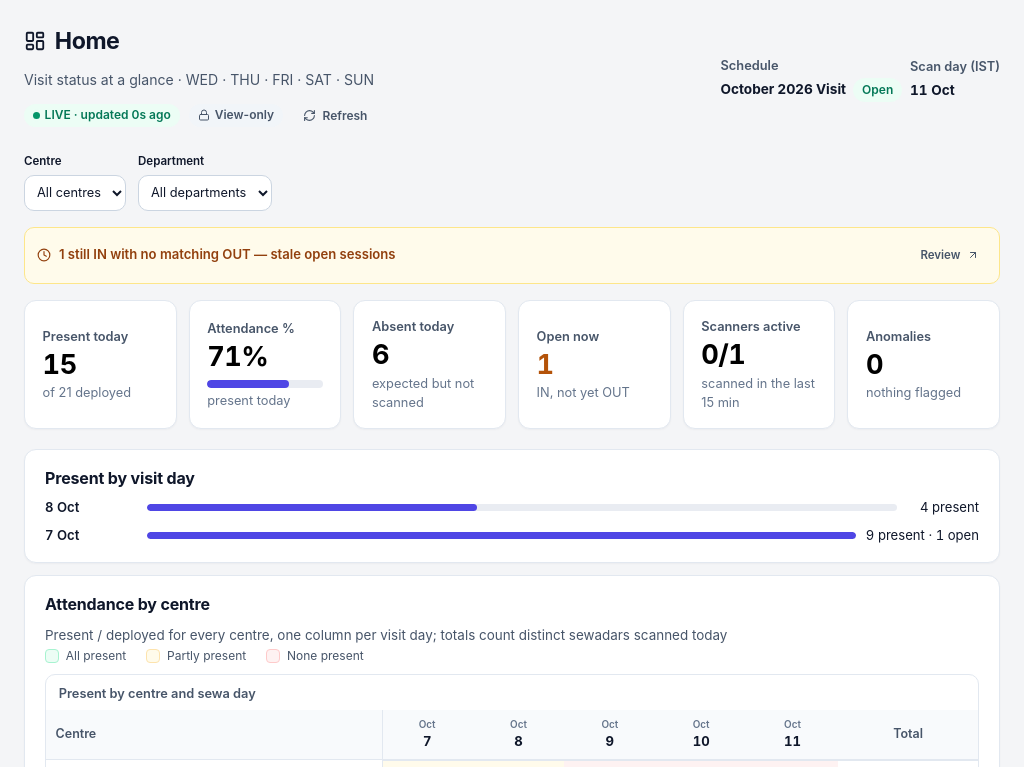
Scenario: DashboardPage — centre + department filters › filters by centre AND department combined
Select "DELHI" in the dropdown labelled "Centre". click: [75, 193]
box: x1=24 y1=175 x2=126 y2=211
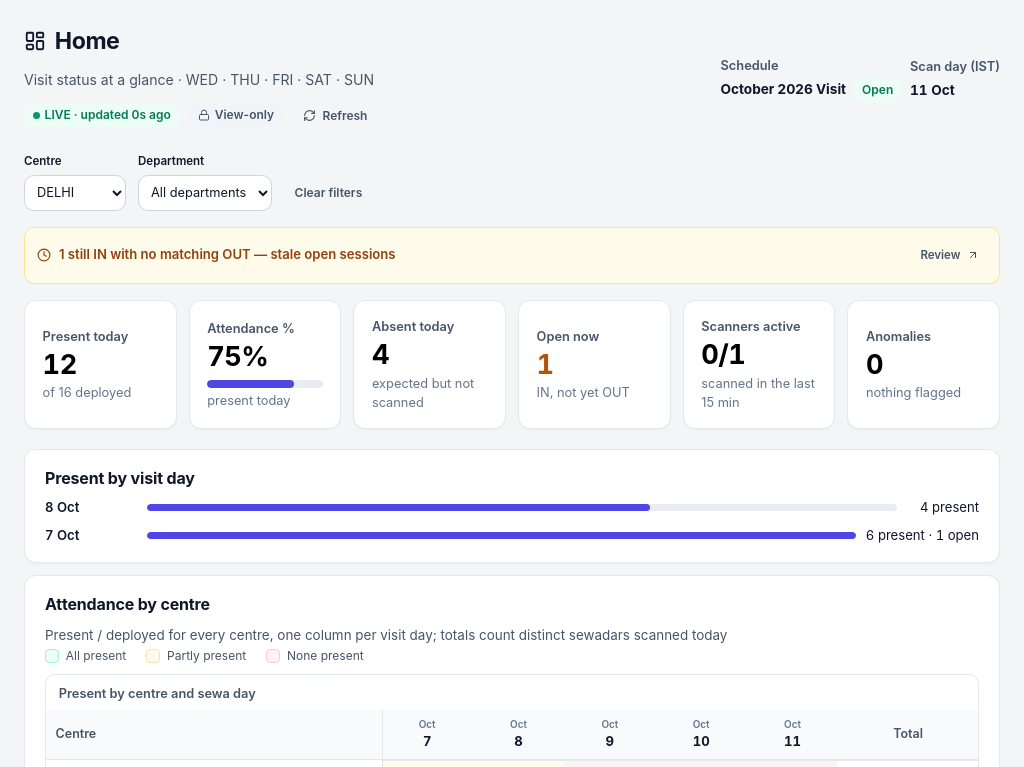
Expected: the button "Present today 12 of 16 deployed" is shown, x1=24 y1=300 x2=177 y2=429
Select "MEDICAL" in the dropdown labelled "Department". click: [205, 193]
box: x1=138 y1=175 x2=272 y2=211
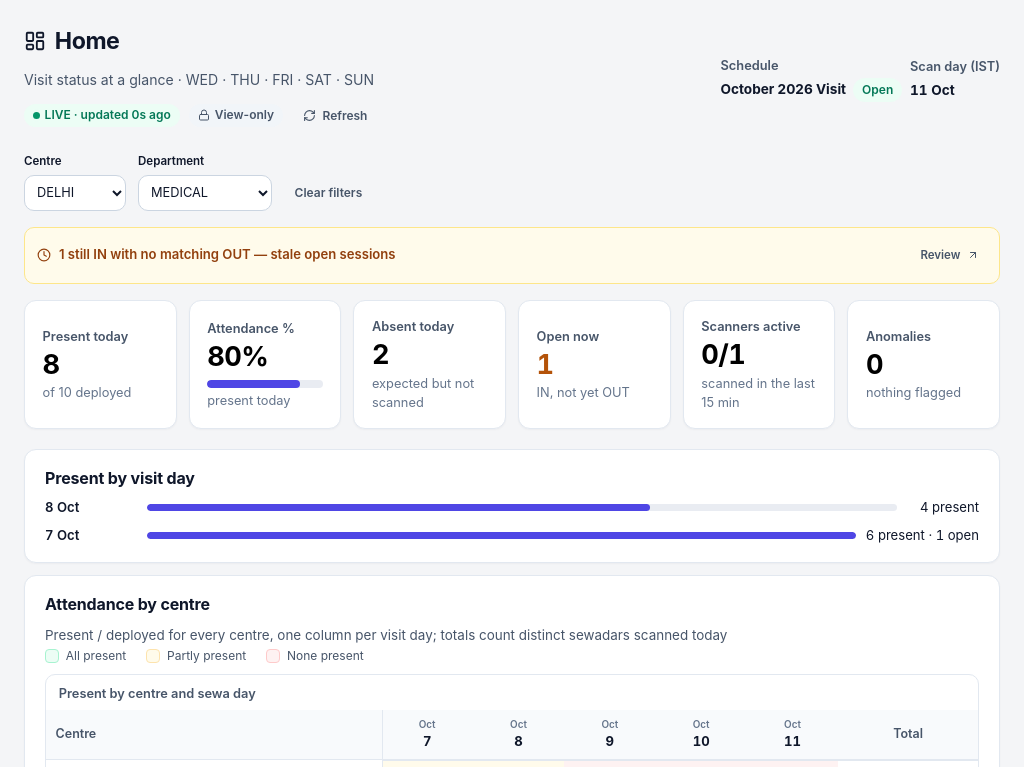
Expected: the button "Present today 8 of 10 deployed" is shown, x1=24 y1=300 x2=177 y2=429
